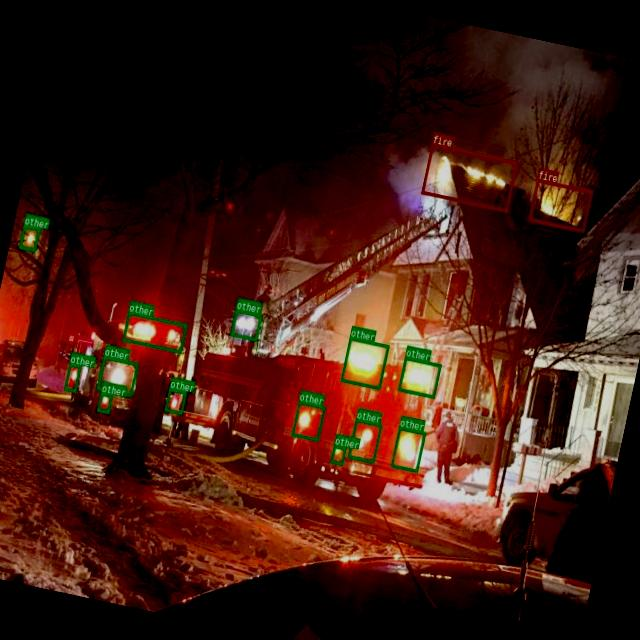fire: (420, 142, 517, 212), (527, 178, 592, 232)
